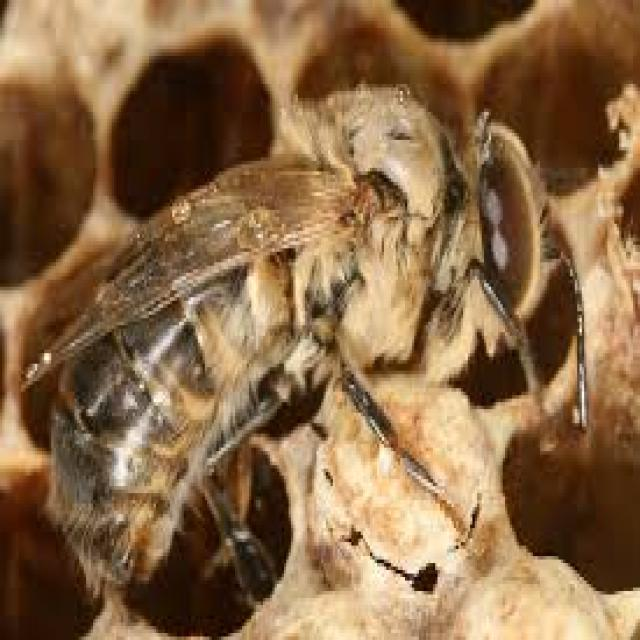Bees: (29, 90, 591, 600)
